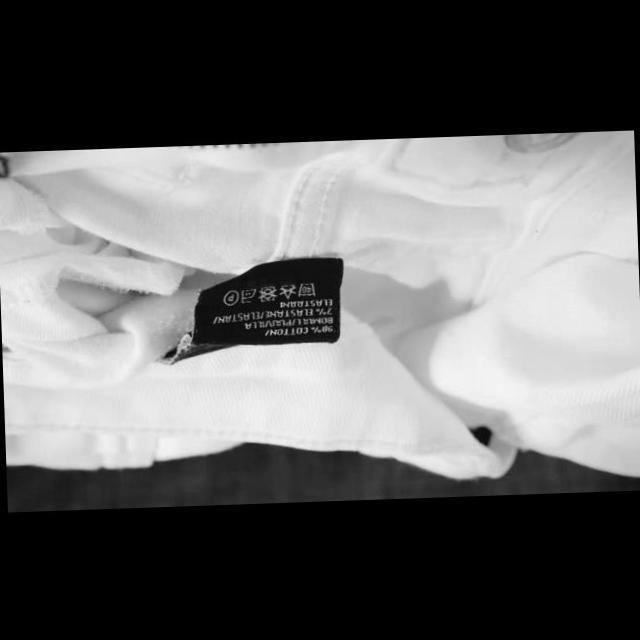40C: (296, 280, 316, 297)
DN_bleach: (277, 280, 297, 300)
DN_tumble_dry: (256, 284, 276, 302)
iron_medium: (238, 286, 256, 304)
normal_dry_clean_solvents: (221, 286, 239, 306)
